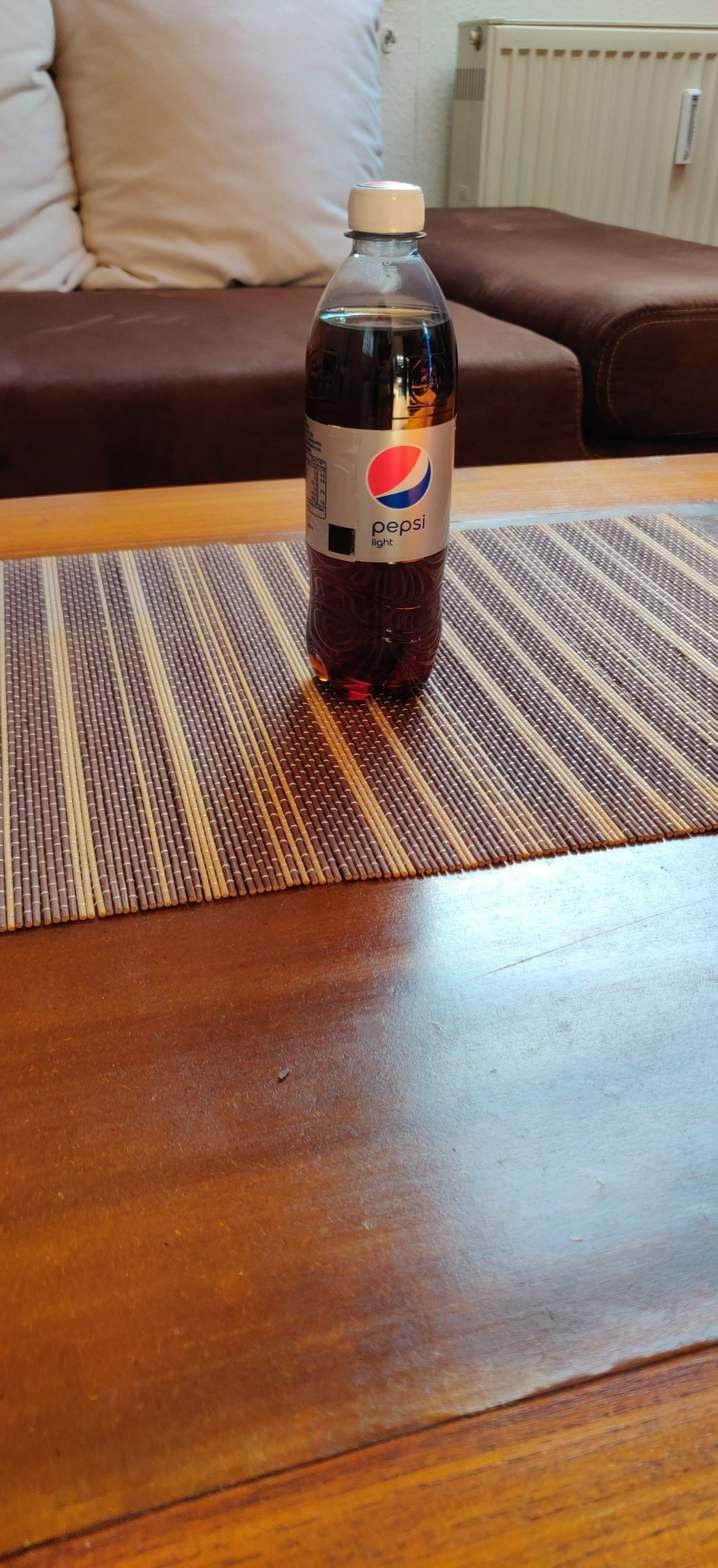bottle-plastic: (300, 180, 460, 702)
